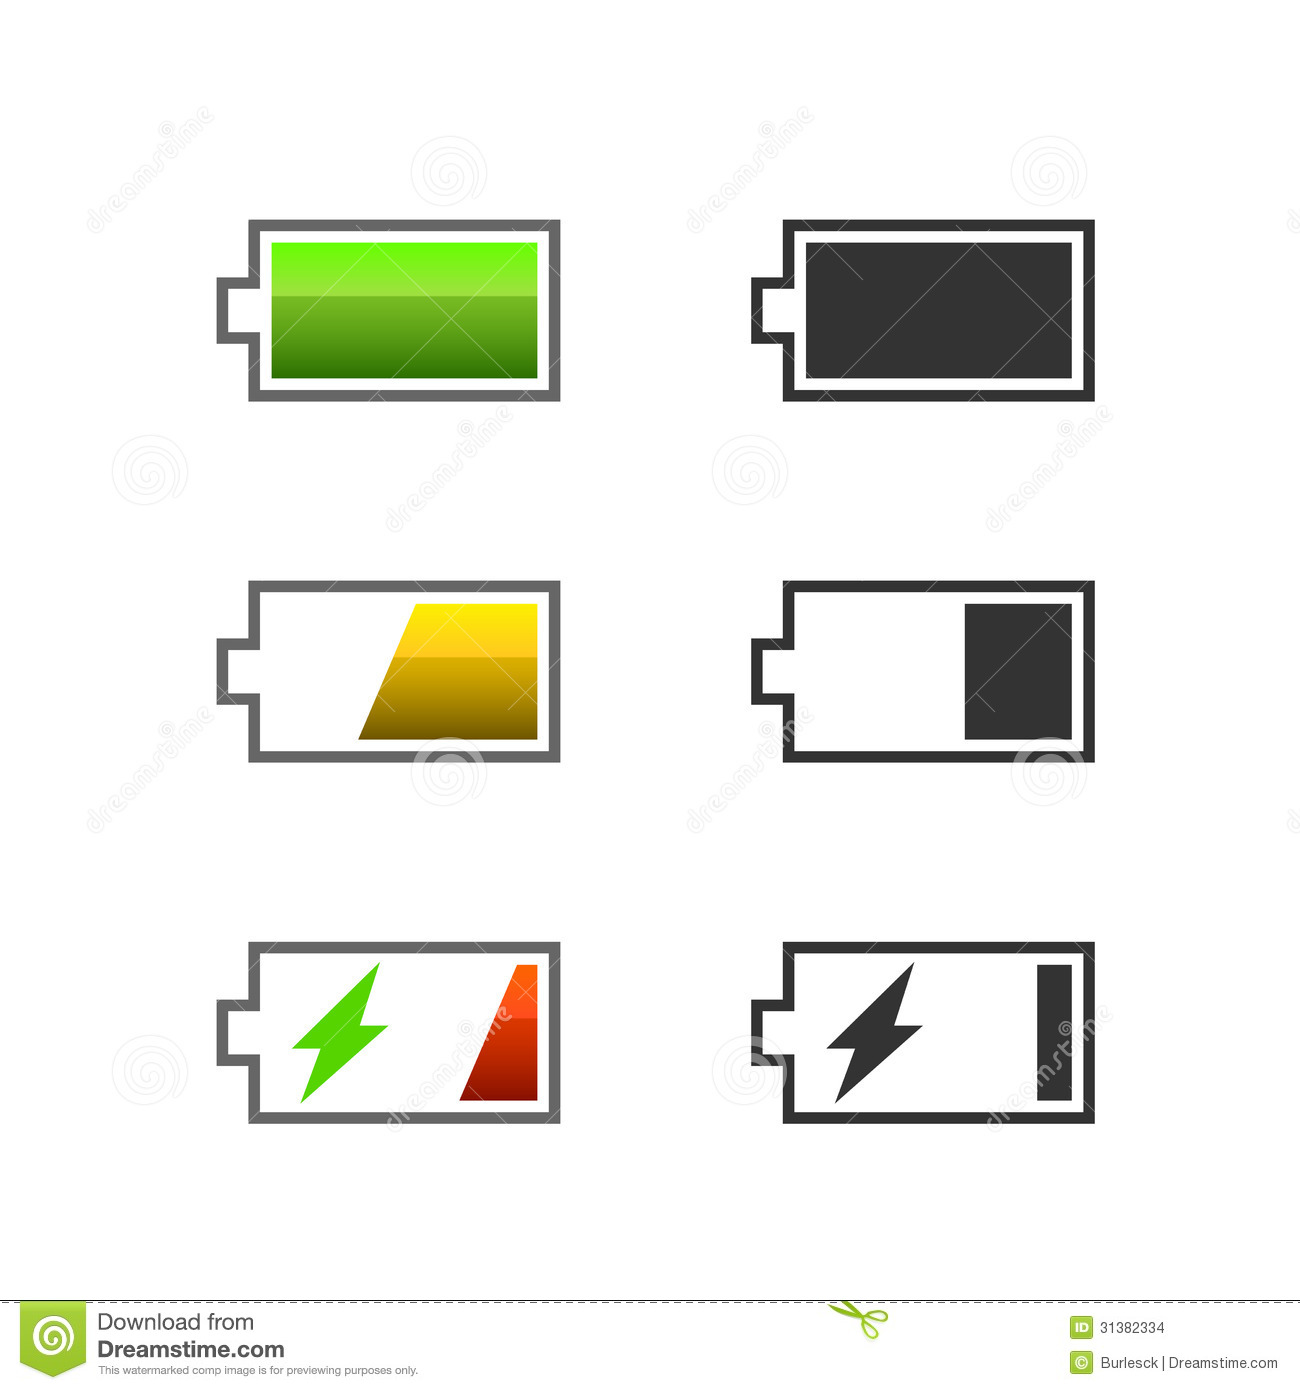charging sign: (703, 879, 1164, 1127), (184, 890, 585, 1146)
